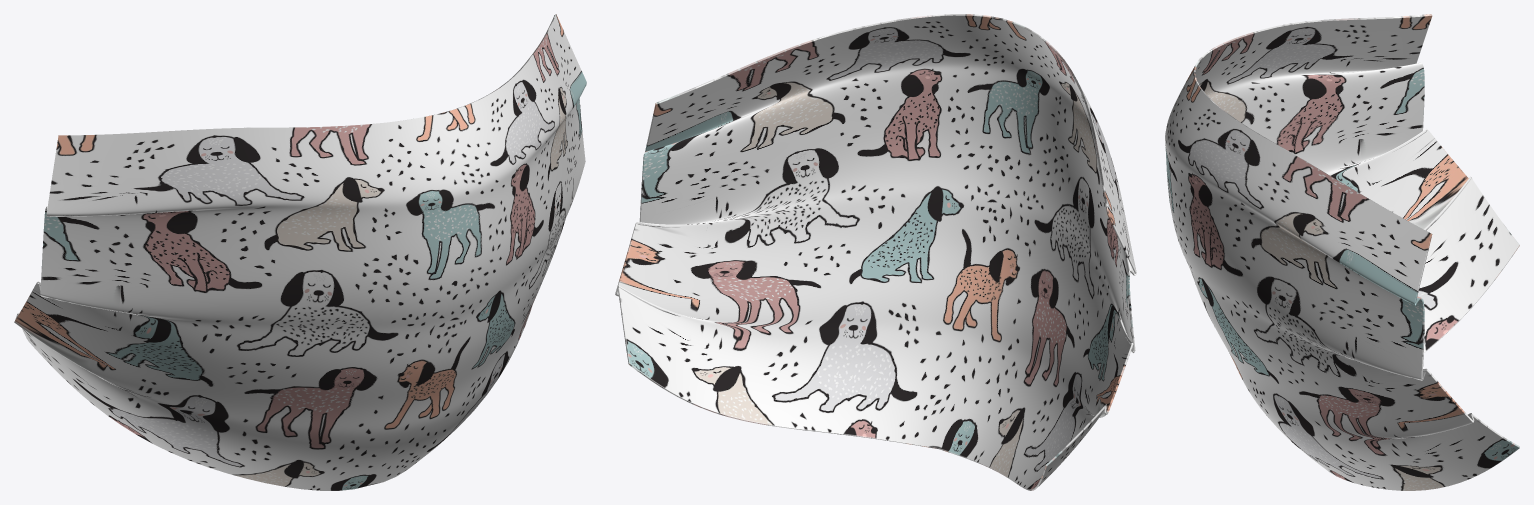
The picture shows the model from 3 angles, left to right: view 1: azimuth 30°, elevation 25°; view 2: azimuth 150°, elevation 25°; view 3: azimuth 270°, elevation 25°; orthographic projection. The views are drawn at different scales.
Visible parts, largest first — view 1: Mask.003; view 2: Mask.003; view 3: Mask.003.
Boxes of the visible parts, left/top/right/bottom form: Mask.003: left=14, top=14, right=586, bottom=490; Mask.003: left=615, top=14, right=1136, bottom=490; Mask.003: left=1165, top=14, right=1519, bottom=490.
Bounding box in the file's own units: 1.5 × 1.11 × 0.9308.
Materials: 1 (1 with a texture image).
